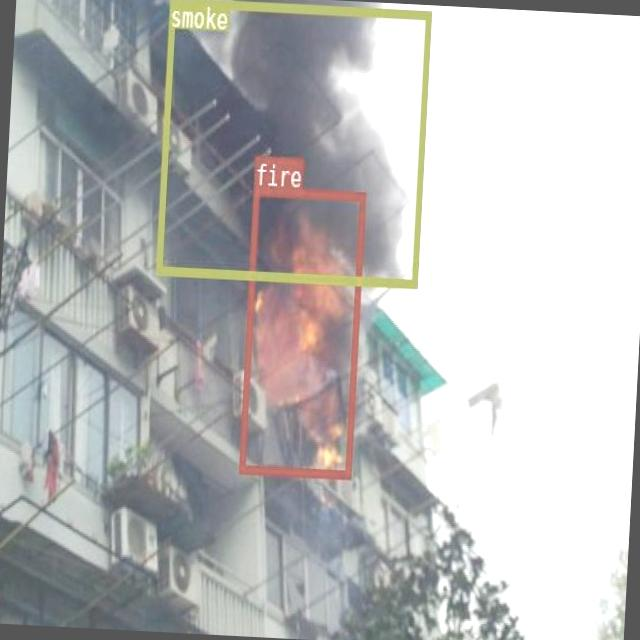fire: (238, 186, 365, 477)
smoke: (156, 0, 430, 286)
